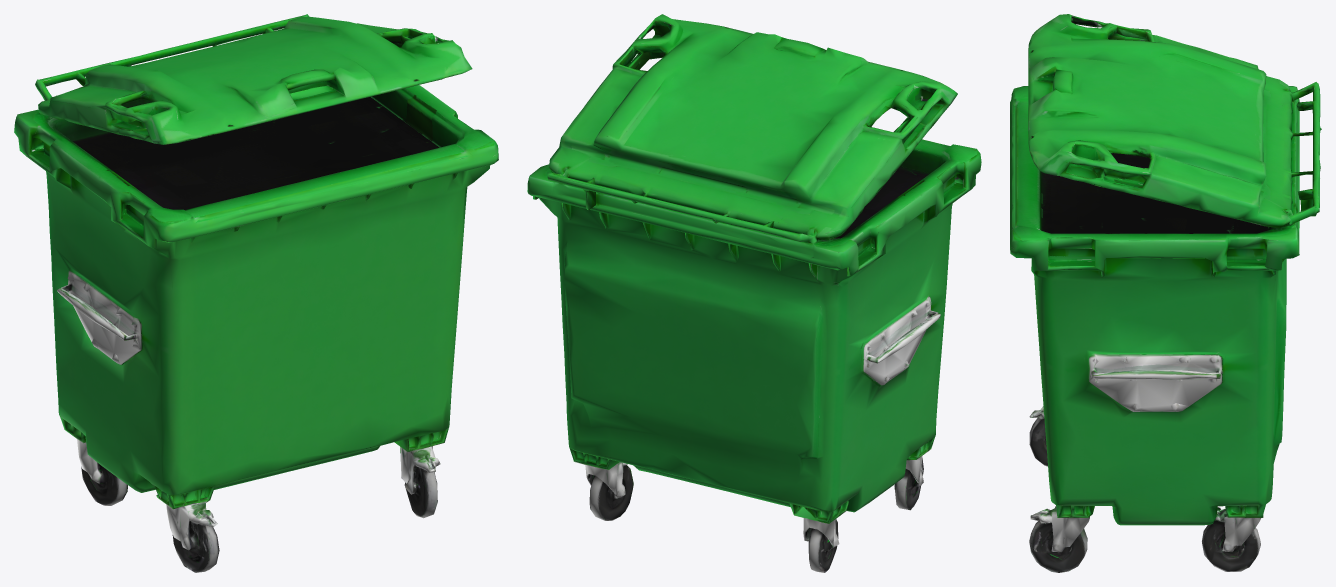
The model's file is copkutusu.fbx.
The picture shows the model from 3 angles, left to right: view 1: azimuth 30°, elevation 25°; view 2: azimuth 150°, elevation 25°; view 3: azimuth 270°, elevation 25°; orthographic projection. The views are drawn at different scales.
Visible parts, largest first — view 1: Mesh_0; view 2: Mesh_0; view 3: Mesh_0.
Boxes of the visible parts, bbox=[...] form: Mesh_0: bbox=[14, 14, 498, 572]; Mesh_0: bbox=[527, 14, 981, 572]; Mesh_0: bbox=[1010, 14, 1321, 572].
Size of the model in its own units: 147 by 192 by 122.
1 material, 1 textured.
